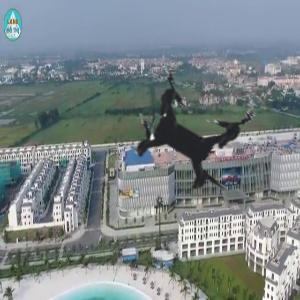drone: (81, 24, 299, 242)
